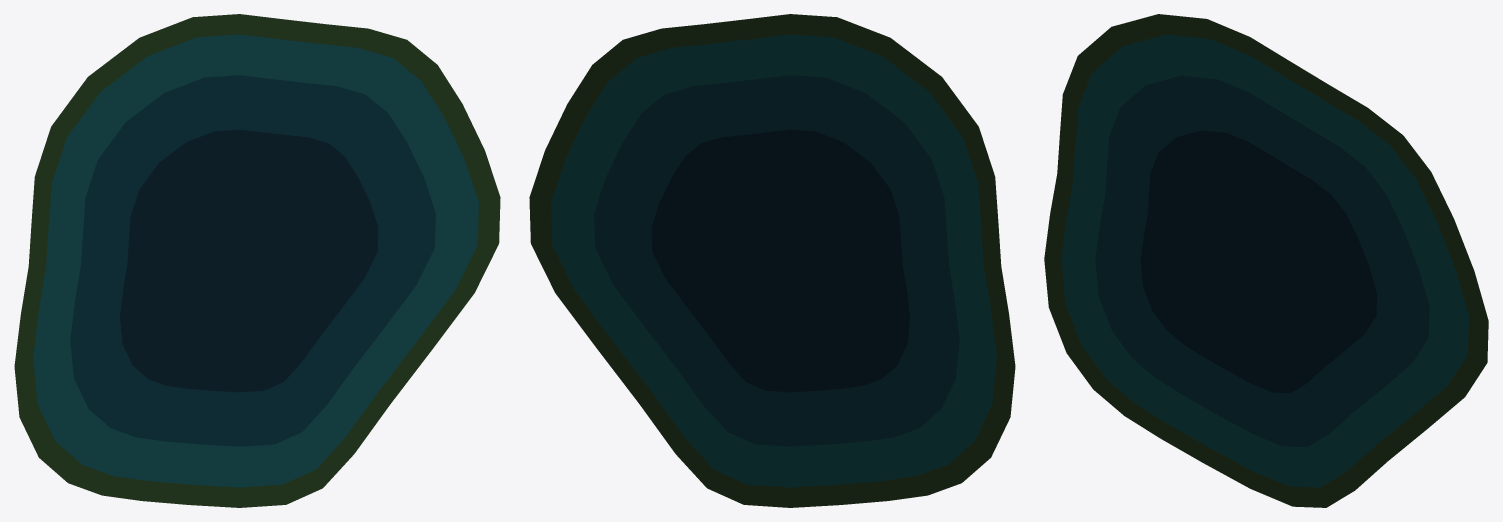
File: SM_ForestPond_A.obj
The picture shows the model from 3 angles, left to right: view 1: azimuth 30°, elevation 25°; view 2: azimuth 150°, elevation 25°; view 3: azimuth 330°, elevation 25°; orthographic projection. The views are drawn at different scales.
Visible parts, largest first — view 1: SM_ForestPond_A; view 2: SM_ForestPond_A; view 3: SM_ForestPond_A.
Part boxes in pixels (x1,y1,x2,y2): SM_ForestPond_A: (14,14,500,507); SM_ForestPond_A: (529,14,1015,507); SM_ForestPond_A: (1044,14,1488,507).
Size of the model in its own units: 221 by 222 by 0.
